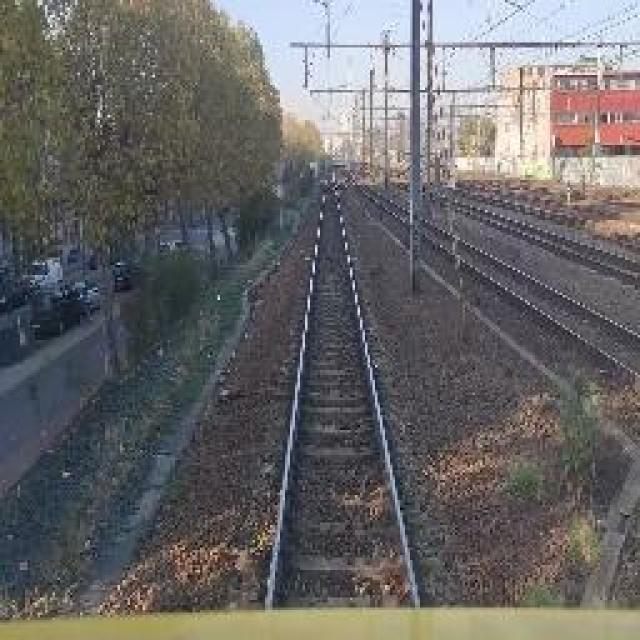rail: (240, 171, 464, 611)
